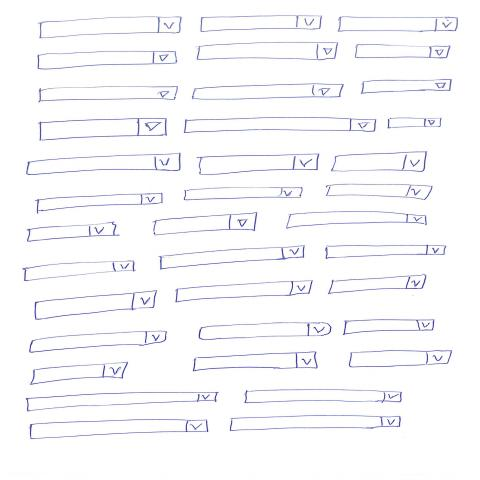Select: (24, 390, 218, 412), (28, 417, 208, 440), (158, 245, 306, 270), (34, 289, 156, 319), (25, 152, 181, 175), (38, 15, 181, 39), (183, 116, 376, 133), (38, 116, 168, 141), (28, 330, 167, 353), (174, 279, 313, 302), (228, 414, 401, 432), (35, 50, 177, 71), (197, 152, 320, 176), (191, 350, 319, 372), (191, 82, 344, 100), (194, 41, 338, 60), (285, 210, 426, 229), (35, 193, 163, 213), (243, 388, 402, 404), (37, 84, 178, 102), (22, 260, 136, 282), (197, 322, 332, 340), (152, 212, 257, 235), (28, 362, 127, 385), (198, 14, 322, 32), (337, 15, 459, 32), (330, 151, 426, 172), (348, 349, 452, 368), (26, 221, 117, 242), (327, 274, 425, 293), (324, 244, 446, 259), (325, 183, 433, 199), (183, 186, 302, 200), (342, 318, 436, 335), (353, 43, 450, 59), (358, 78, 452, 94), (385, 116, 444, 129)
